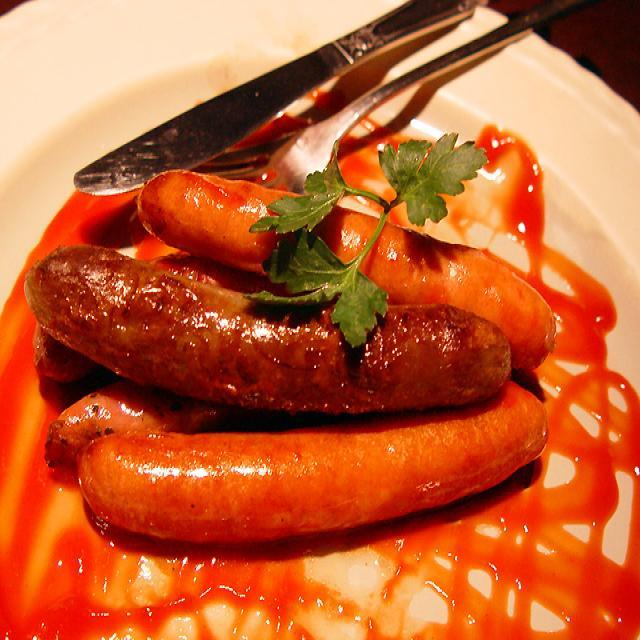Sausage: (21, 154, 542, 530)
